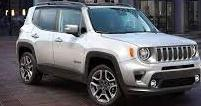SUV: (17, 3, 201, 106)
